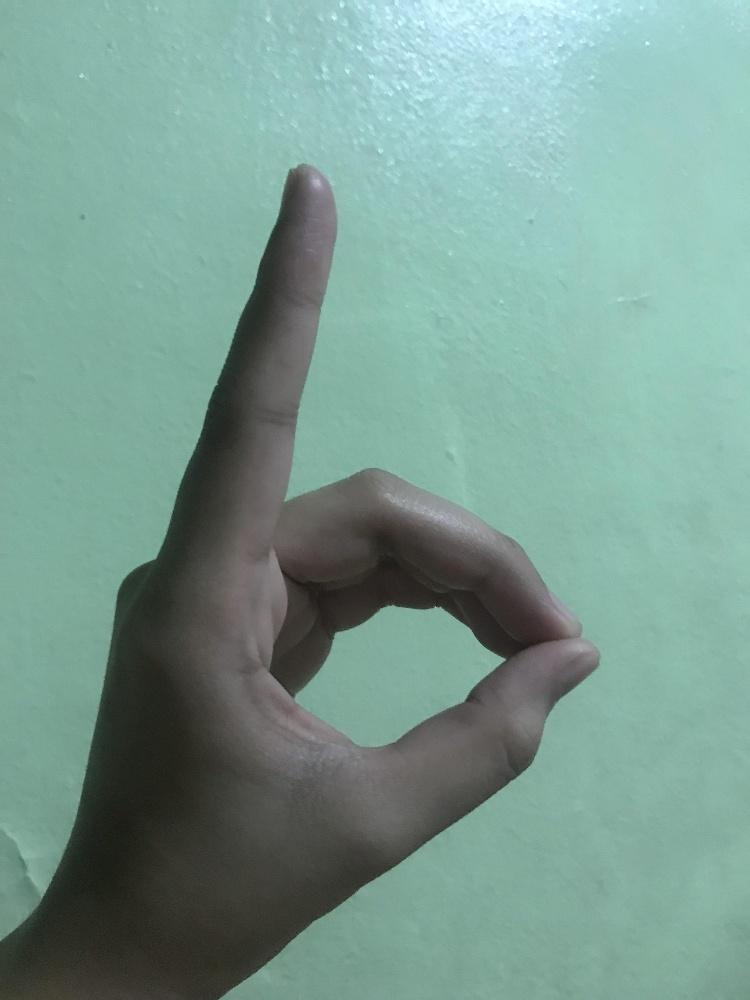d: (86, 159, 605, 975)
